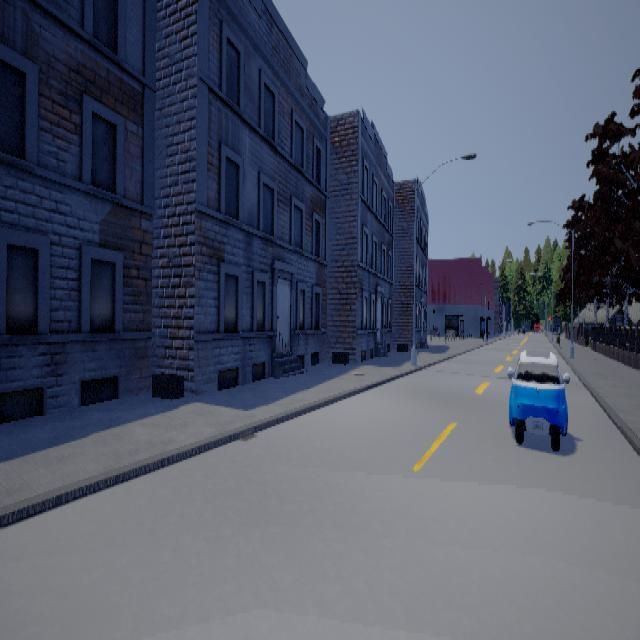vehicle: (506, 345, 567, 450)
